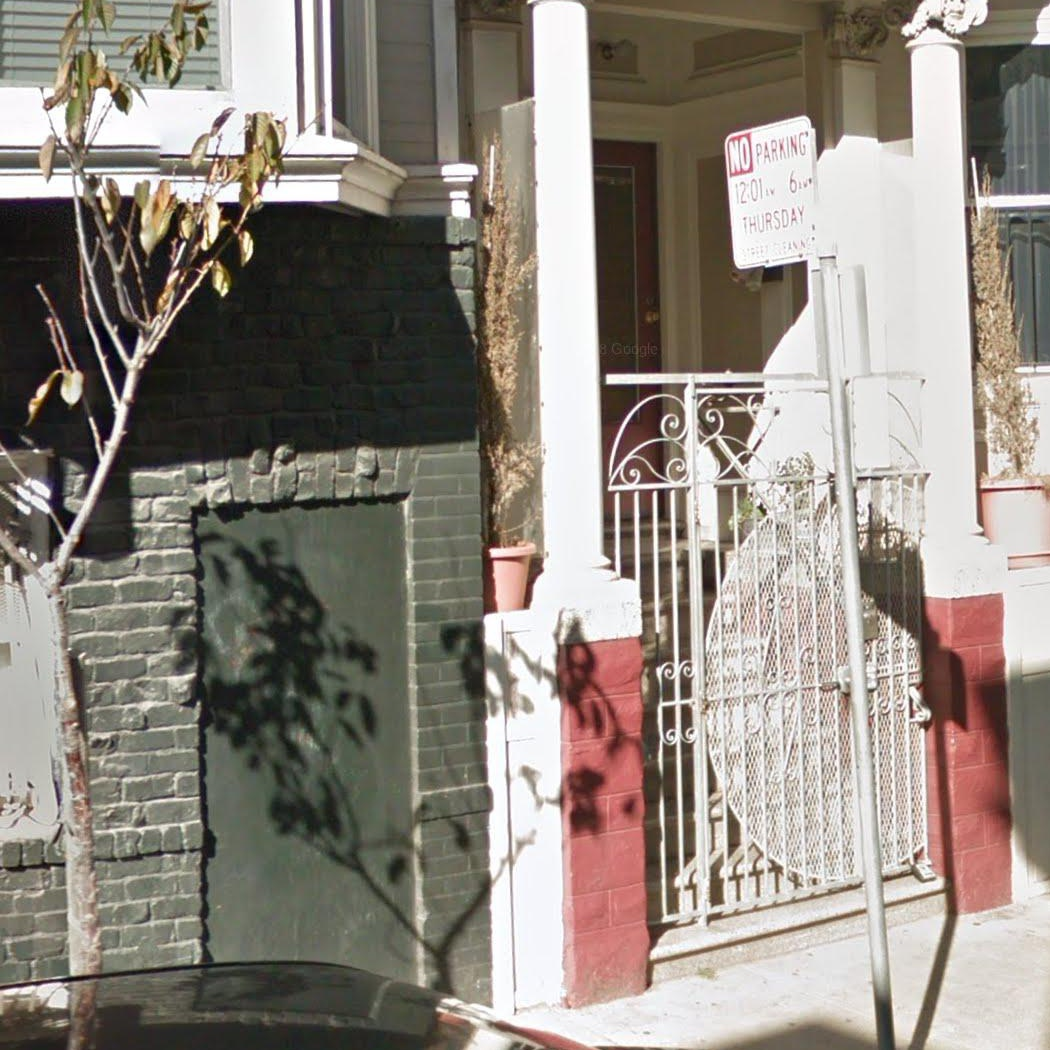No Parking: (722, 115, 822, 270)
